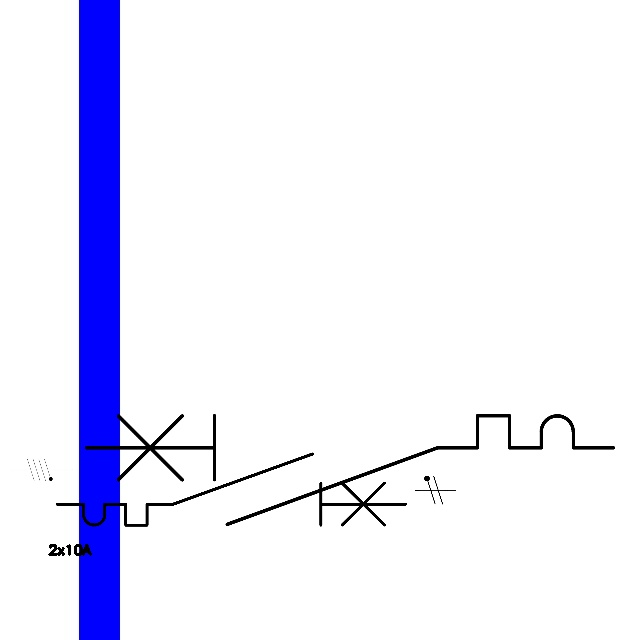interruptor_termomagnetico: (72, 402, 627, 537), (48, 445, 414, 534)
